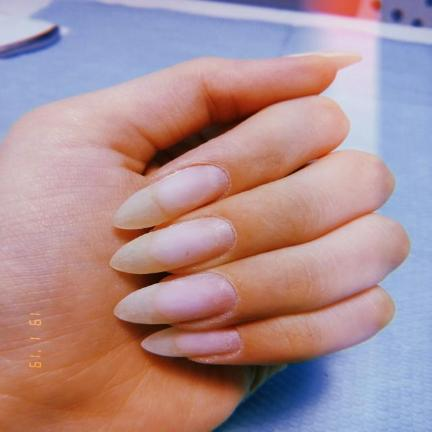Nail: (110, 165, 228, 229), (108, 217, 235, 274), (113, 273, 236, 324), (140, 327, 241, 357)
